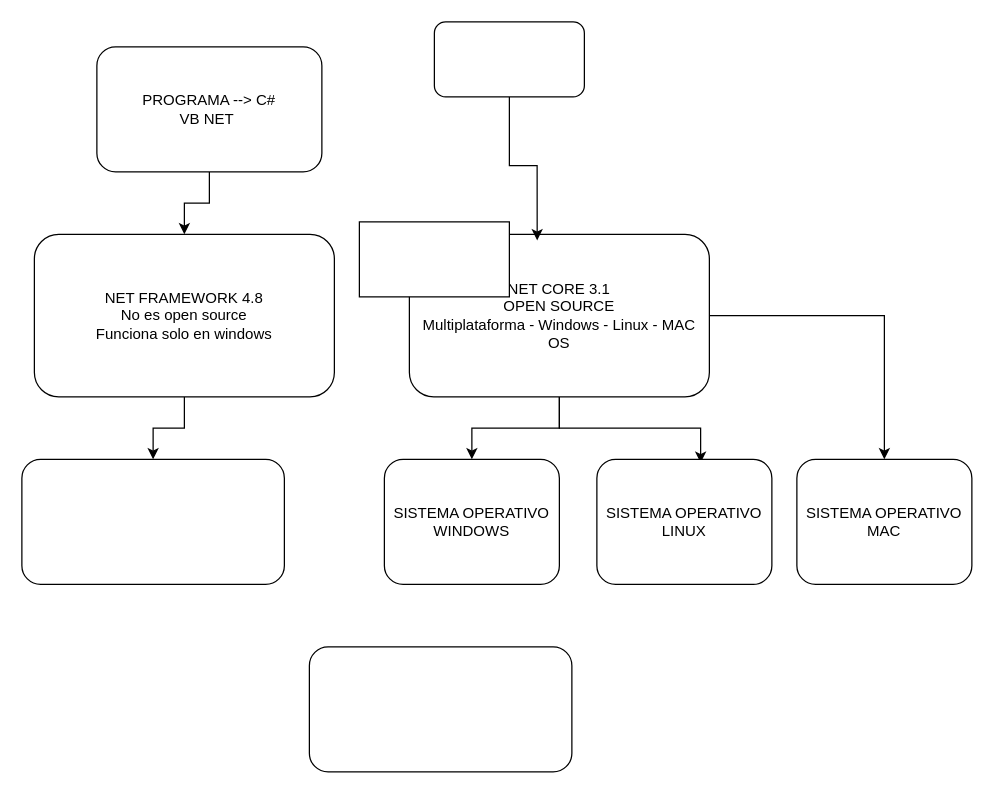
This 994x794 diagram has some shape labels left out. Here are the shapes that lost their labels. From the top down, the centre of each, then its label:
At [508,59]: "PROGRAMA --> C#".
At [152,521]: "SISTEMA OPERATIVO".
At [440,709]: ".NET 5".
